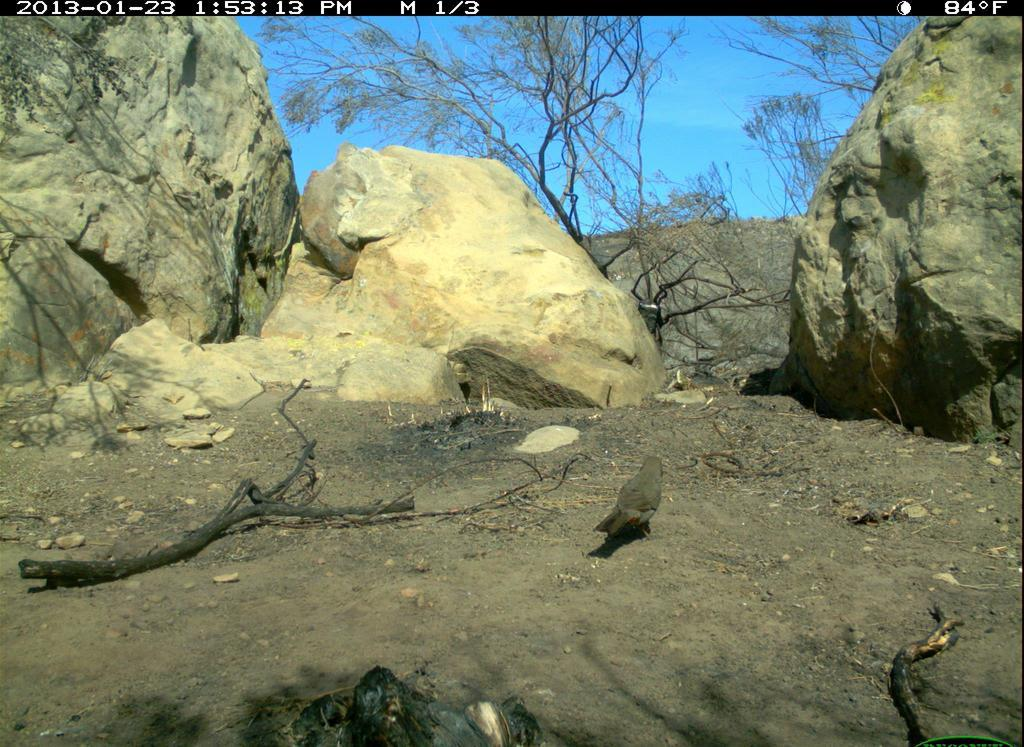bird: (593, 454, 670, 554)
